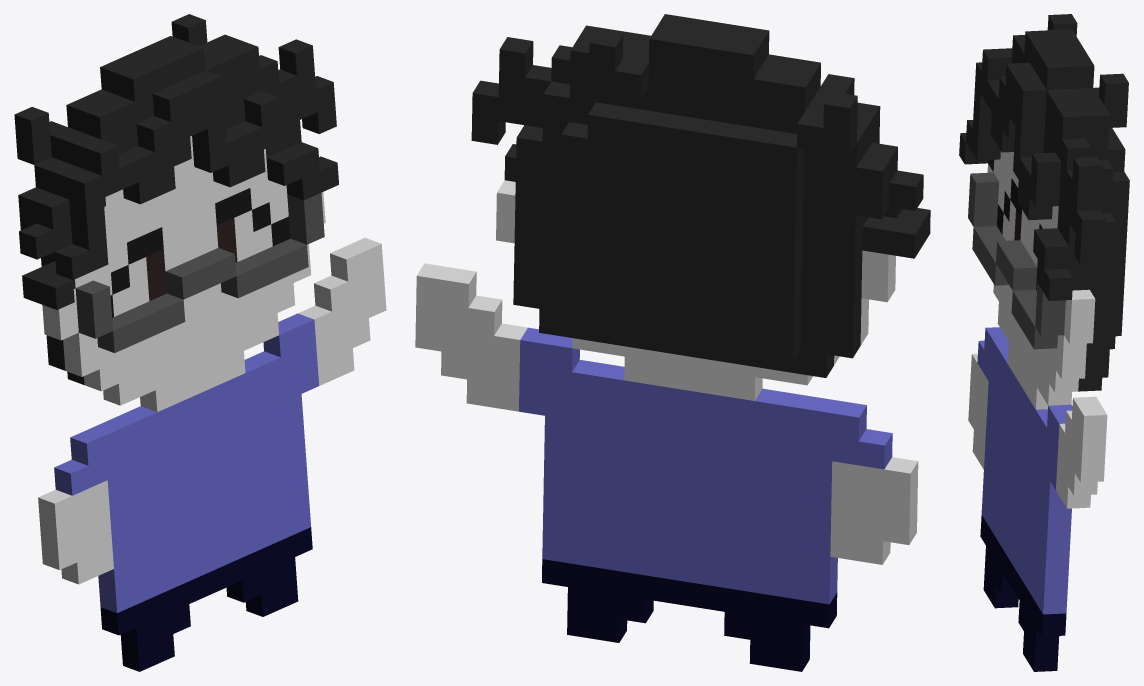
File: MeFinal.glb
The picture shows the model from 3 angles, left to right: view 1: azimuth 30°, elevation 25°; view 2: azimuth 150°, elevation 25°; view 3: azimuth 270°, elevation 25°; orthographic projection. The views are drawn at different scales.
Visible parts, largest first — view 1: Node1.003; view 2: Node1.003; view 3: Node1.003.
Boxes of the visible parts, <box> form: Node1.003: <box>14,14,386,671</box>; Node1.003: <box>415,14,930,671</box>; Node1.003: <box>959,14,1129,671</box>.
Bounding box in the file's own units: 0.1991 × 0.2722 × 0.0739.
1 material, 1 textured.
